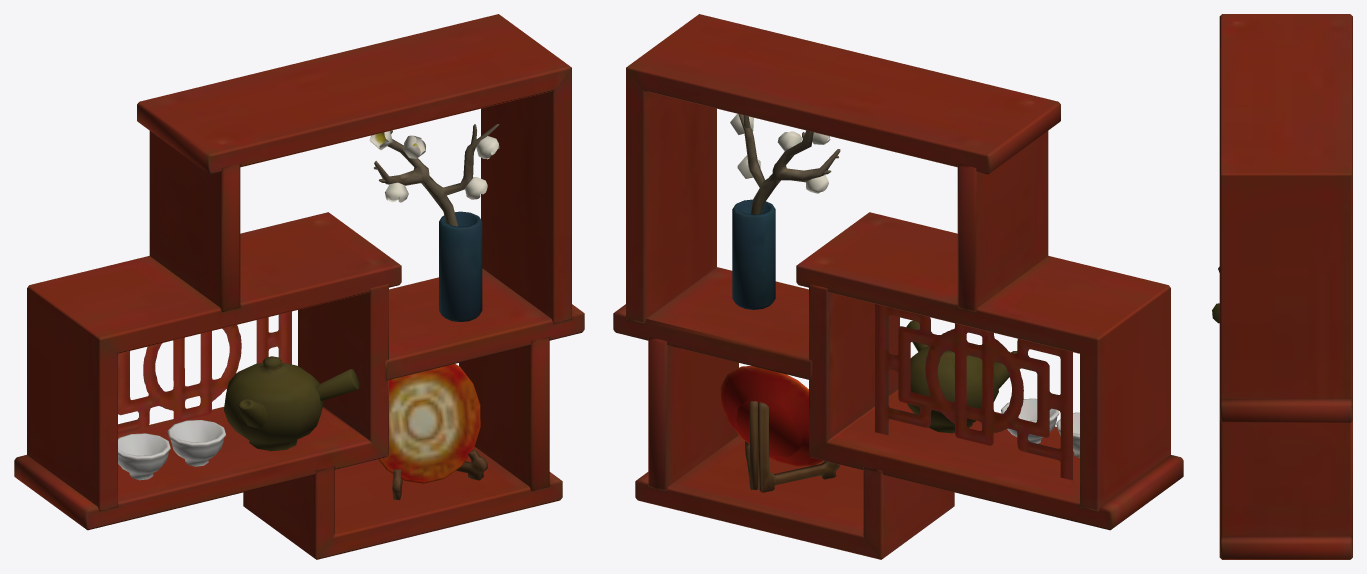
3 renders of one model, left to right at view 1: azimuth 30°, elevation 25°; view 2: azimuth 150°, elevation 25°; view 3: azimuth 270°, elevation 25°, orthographic. The views are drawn at different scales.
Size of the model in its own units: 14.68 by 12.15 by 3.96.
1 material, 1 textured.
